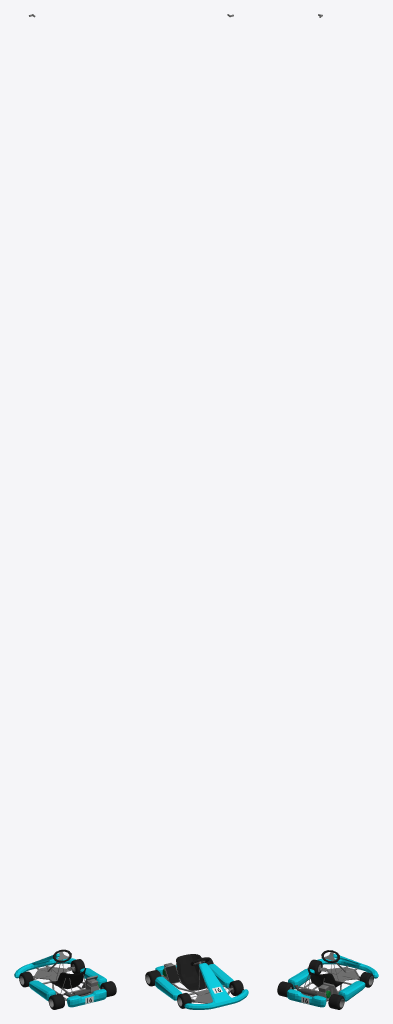
The model's file is bluekart.glb.
3 views of the same model, side by side, from view 1: azimuth 30°, elevation 25°; view 2: azimuth 210°, elevation 25°; view 3: azimuth 330°, elevation 25° (orthographic). The views are drawn at different scales.
Visible parts, largest first — view 1: Plane, Cube.004, Plane.001, Cube.003, Cube.002; view 2: Cube.004, Plane.001, Plane, Cube.001; view 3: Plane, Cube.004, Cube.003, Plane.001, Cube.001, Cube.002.
Part boxes in pixels (x1,y1,x2,y2): Plane: (29,14,90,1000); Cube.004: (14,953,75,978); Plane.001: (50,968,86,989); Cube.003: (67,989,106,1007); Cube.002: (29,980,55,1001); Cube.004: (184,962,248,1009); Plane.001: (176,954,207,990); Plane: (161,14,233,1003); Cube.001: (155,976,181,1000); Plane: (298,14,360,1001); Cube.004: (317,954,378,978); Cube.003: (287,989,326,1007); Plane.001: (307,967,343,987); Cube.001: (338,981,365,1001); Cube.002: (288,968,314,989).
Bounding box in the file's own units: 6.11 × 90.71 × 8.56.
